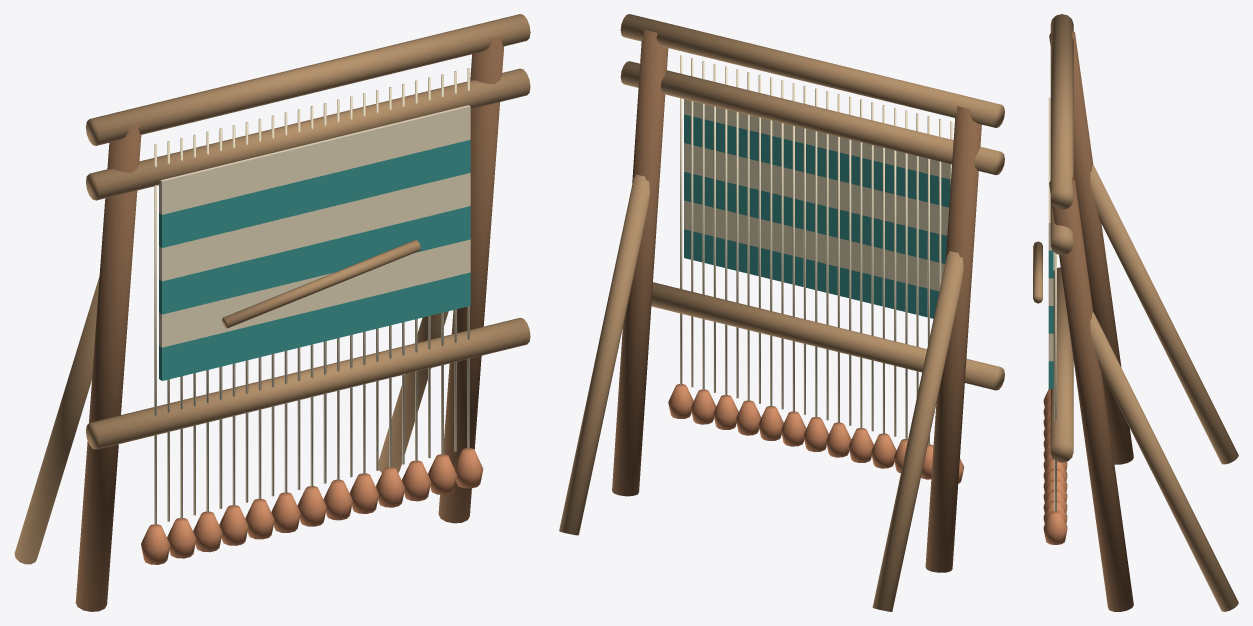
The model's file is weighted-loom.glb.
3 renders of one model, left to right at view 1: azimuth 30°, elevation 25°; view 2: azimuth 150°, elevation 25°; view 3: azimuth 270°, elevation 25°, orthographic. The views are drawn at different scales.
Visible parts, largest first — view 1: weighted-loom__woodlight, weighted-loom__linen, weighted-loom__teal, weighted-loom__wood, weighted-loom__clay; view 2: weighted-loom__woodlight, weighted-loom__linen, weighted-loom__wood, weighted-loom__teal, weighted-loom__clay; view 3: weighted-loom__woodlight, weighted-loom__wood, weighted-loom__clay, weighted-loom__linen, weighted-loom__teal.
Part boxes in pixels (left/top/right/bottom): weighted-loom__woodlight: left=14, top=14, right=530, bottom=564; weighted-loom__linen: left=154, top=68, right=470, bottom=524; weighted-loom__teal: left=159, top=139, right=470, bottom=380; weighted-loom__wood: left=75, top=35, right=504, bottom=611; weighted-loom__clay: left=141, top=448, right=483, bottom=564; weighted-loom__woodlight: left=559, top=14, right=1004, bottom=611; weighted-loom__linen: left=680, top=55, right=952, bottom=444; weighted-loom__wood: left=612, top=29, right=981, bottom=572; weighted-loom__teal: left=684, top=114, right=950, bottom=318; weighted-loom__clay: left=668, top=384, right=964, bottom=483; weighted-loom__woodlight: left=1033, top=14, right=1238, bottom=611; weighted-loom__wood: left=1049, top=30, right=1133, bottom=611; weighted-loom__clay: left=1043, top=389, right=1067, bottom=544; weighted-loom__linen: left=1048, top=97, right=1056, bottom=511; weighted-loom__teal: left=1048, top=250, right=1053, bottom=388.
Bounding box in the file's own units: 1.9 × 2.2 × 0.944.
